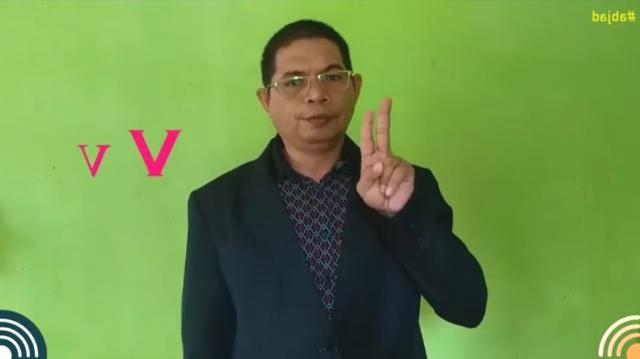U: (352, 95, 418, 219)
